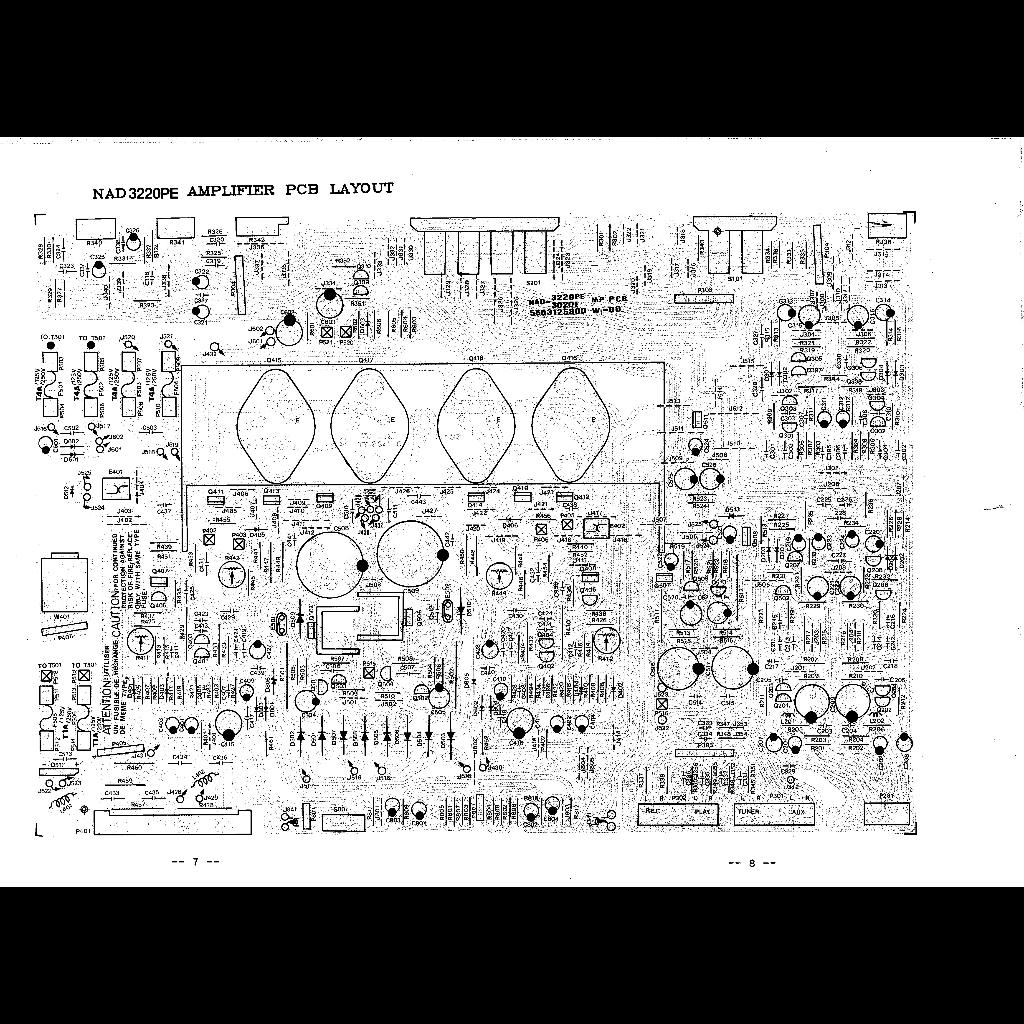Board: (32, 212, 918, 838)
